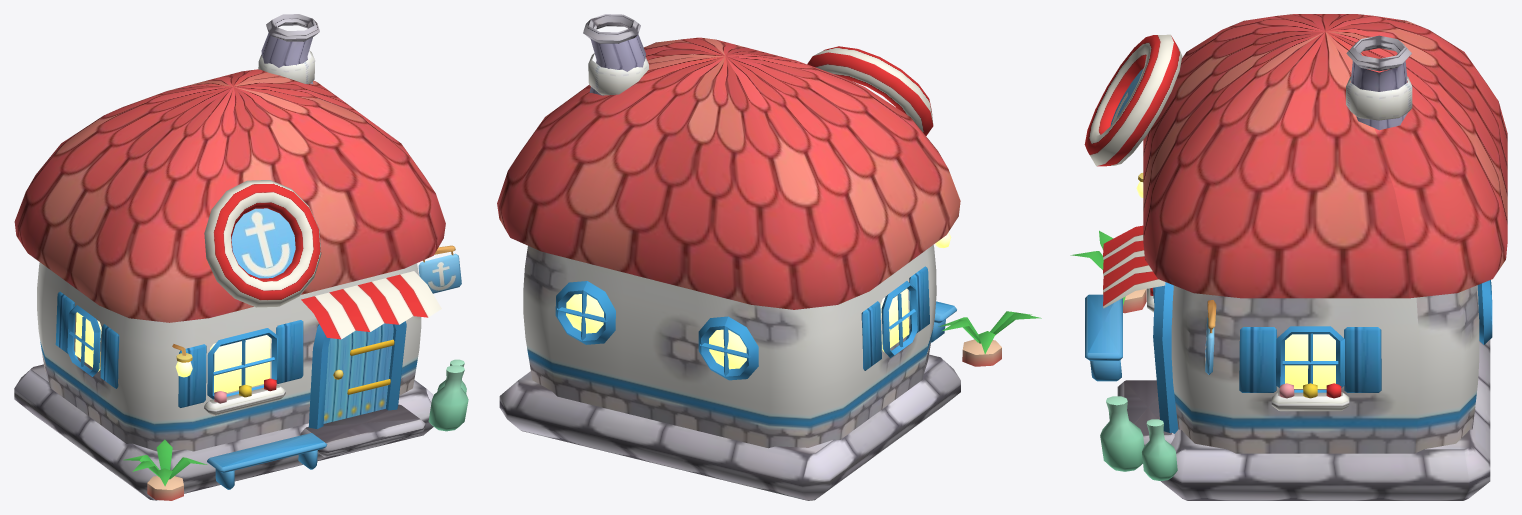
File: infirmary.glb
3 views of the same model, side by side, from view 1: azimuth 30°, elevation 25°; view 2: azimuth 150°, elevation 25°; view 3: azimuth 270°, elevation 25° (orthographic). The views are drawn at different scales.
Visible parts, largest first — view 1: infirmary; view 2: infirmary; view 3: infirmary.
Boxes of the visible parts, bbox=[...] form: infirmary: bbox=[14, 14, 468, 500]; infirmary: bbox=[497, 14, 1041, 500]; infirmary: bbox=[1070, 14, 1507, 500].
Size of the model in its own units: 7.12 by 6.56 by 6.1.
4 materials, 4 textured.
